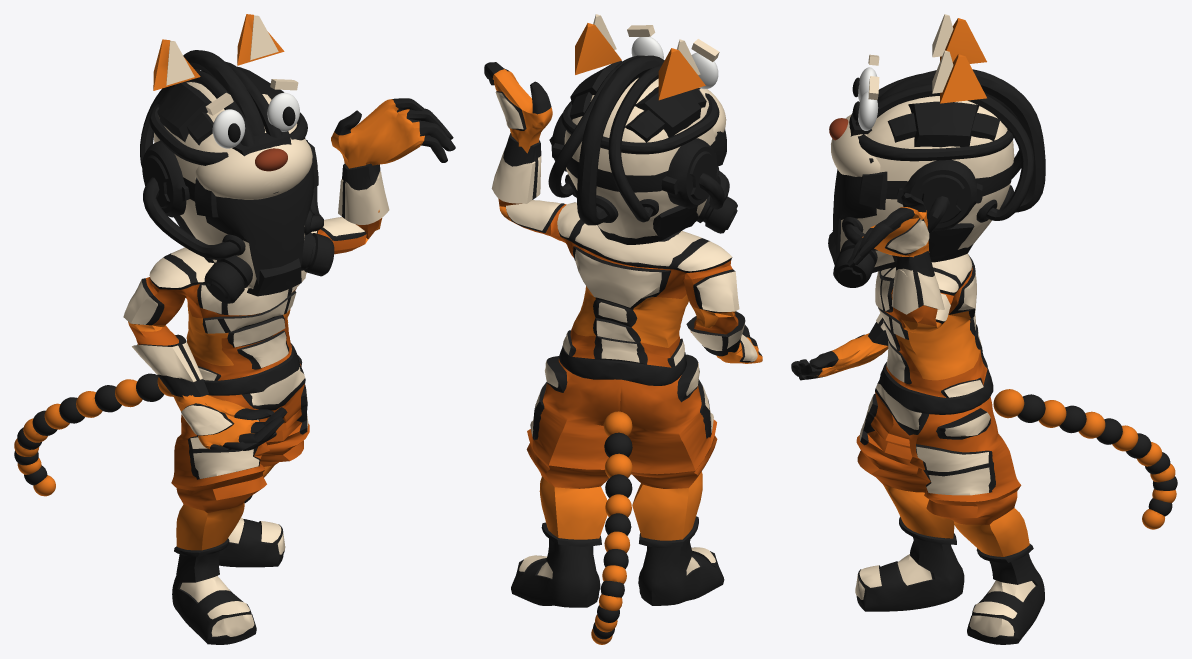
Rendered from av-mascote-tigre.glb.
3 renders of one model, left to right at view 1: azimuth 30°, elevation 25°; view 2: azimuth 150°, elevation 25°; view 3: azimuth 270°, elevation 25°, orthographic.
Parts seen in each view (by area): view 1: Ad_cauda_2_0; view 2: Ad_cauda_2_0; view 3: Ad_cauda_2_0.
Part boxes in pixels (bbox=[...]): Ad_cauda_2_0: bbox=[14, 14, 455, 644]; Ad_cauda_2_0: bbox=[484, 14, 762, 644]; Ad_cauda_2_0: bbox=[791, 14, 1177, 644].
Size of the model in its own units: 0.7924 by 1.51 by 0.9123.
Materials: 1 (1 with a texture image).
